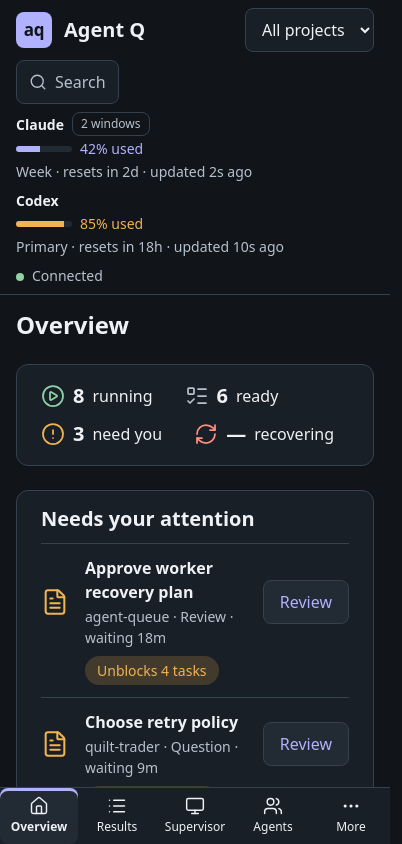
Test: phone navigation offers Overview, Results, Supervisor, Agents and More
Expected: the links read "Overview", "Results", "Supervisor", "Agents", in this order, [0,788,78,843]; [97,796,137,835]; [165,796,225,835]; [253,796,293,835]
Click the button "More" at coordinates (351, 816), box [312,788,390,843]
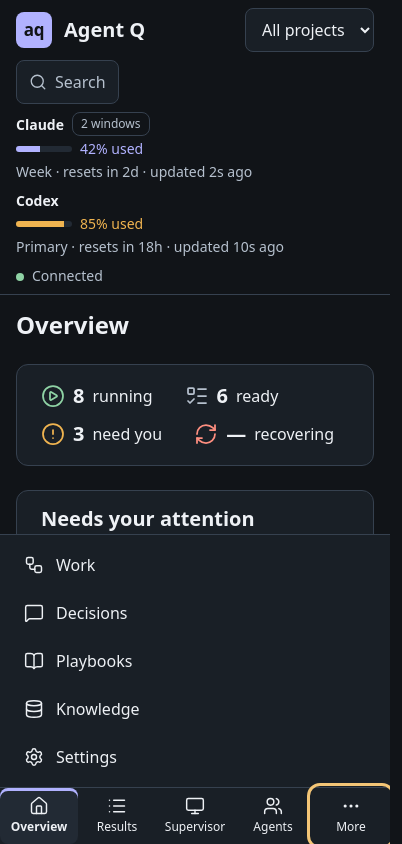
Result: the links read "Work", "Decisions", "Playbooks", "Knowledge", "Settings", in this order at [24,554,95,576]; [24,602,128,624]; [24,650,132,672]; [24,698,140,720]; [24,746,117,768]
